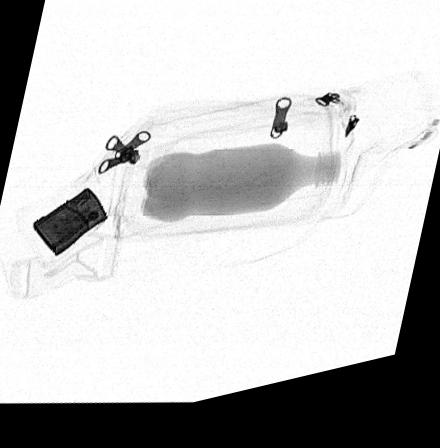Lighter: (31, 189, 107, 258)
